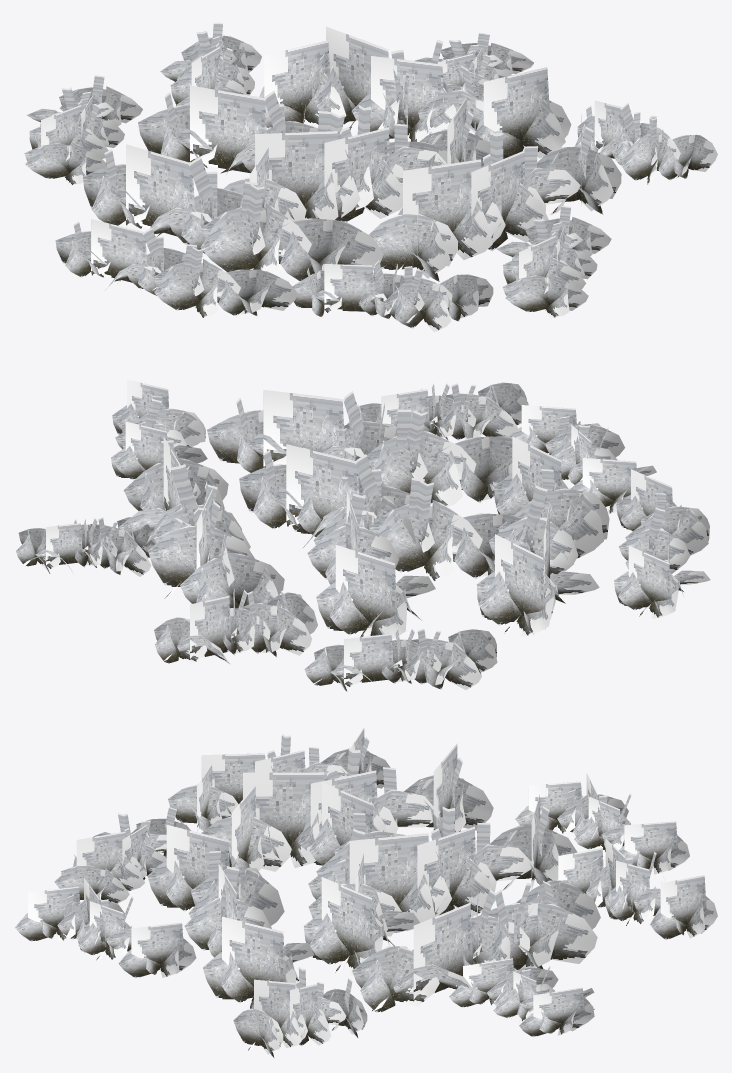
Rendered from SotSnowGrass3_Alt-transformed.glb.
The picture shows the model from 3 angles, top to bottom: view 1: azimuth 30°, elevation 25°; view 2: azimuth 150°, elevation 25°; view 3: azimuth 270°, elevation 25°; orthographic projection. The views are drawn at different scales.
Parts seen in each view (by area): view 1: World_Expansion05_doodads_spiresofarrak_doodads_6sa_watergr.; view 2: World_Expansion05_doodads_spiresofarrak_doodads_6sa_watergr.; view 3: World_Expansion05_doodads_spiresofarrak_doodads_6sa_watergr..
Boxes of the visible parts, x1=… form: World_Expansion05_doodads_spiresofarrak_doodads_6sa_watergr.: x1=24, y1=22, x2=717, y2=332; World_Expansion05_doodads_spiresofarrak_doodads_6sa_watergr.: x1=16, y1=379, x2=710, y2=691; World_Expansion05_doodads_spiresofarrak_doodads_6sa_watergr.: x1=15, y1=727, x2=717, y2=1058.
Size of the model in its own units: 6.96 by 1.01 by 7.05.
1 material, 1 textured.
